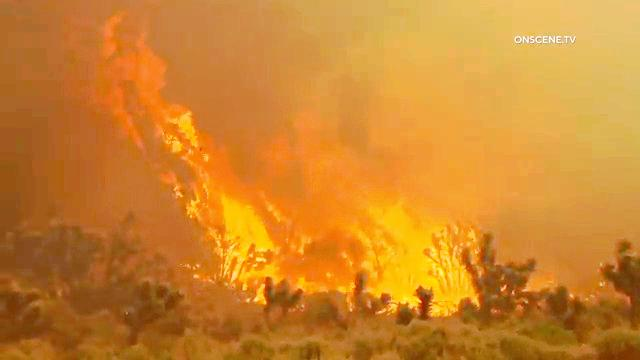fire: (148, 100, 508, 317), (62, 11, 277, 287)
